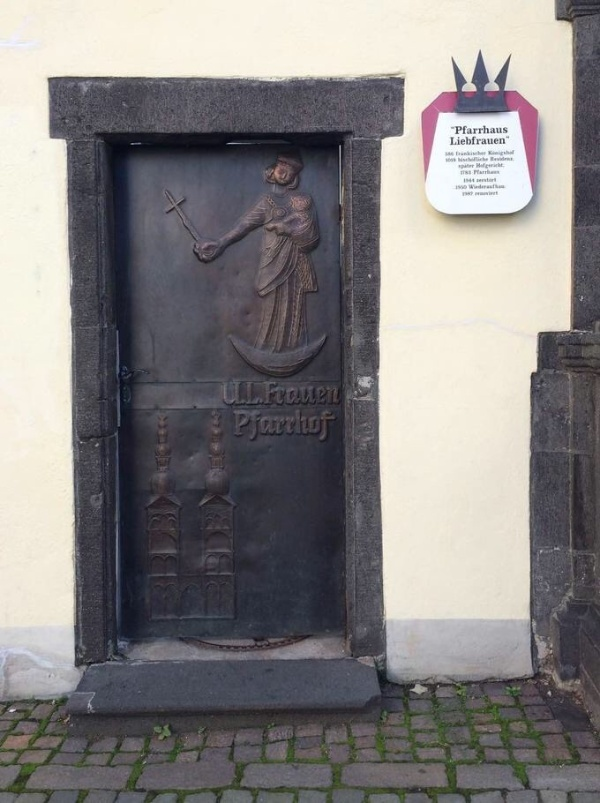text: (241, 407, 256, 456), (257, 407, 272, 456), (273, 407, 288, 456), (289, 407, 304, 456), (305, 407, 320, 456), (321, 407, 336, 456), (225, 378, 240, 406), (241, 378, 256, 406), (257, 378, 272, 406), (273, 378, 288, 406), (289, 378, 304, 406), (305, 378, 320, 406), (321, 378, 336, 406), (233, 407, 240, 456), (465, 125, 480, 136), (481, 125, 496, 136), (465, 136, 480, 146), (481, 136, 496, 146), (450, 136, 464, 146), (497, 125, 508, 136), (455, 125, 464, 136), (221, 378, 224, 406), (337, 378, 340, 406), (497, 136, 505, 146), (465, 151, 480, 156), (497, 151, 512, 156), (481, 163, 496, 168), (481, 170, 496, 175), (481, 178, 496, 183), (481, 184, 496, 189), (497, 157, 512, 161), (465, 157, 480, 161), (468, 184, 480, 189), (481, 192, 496, 196), (465, 178, 475, 183), (337, 407, 338, 456), (456, 185, 464, 191), (465, 164, 474, 169), (457, 151, 464, 156), (489, 151, 496, 156), (473, 170, 480, 175), (497, 184, 504, 189), (465, 192, 473, 196), (481, 151, 487, 156), (458, 164, 464, 169), (497, 163, 503, 168), (481, 157, 488, 161), (449, 158, 456, 162), (465, 171, 472, 175), (449, 152, 454, 157), (490, 157, 496, 161), (458, 157, 464, 161), (476, 163, 480, 168), (476, 178, 480, 183), (475, 192, 480, 196), (460, 171, 464, 175), (445, 152, 448, 157), (445, 158, 448, 162), (465, 185, 467, 191), (513, 151, 515, 156), (497, 170, 499, 175), (462, 192, 464, 196), (513, 157, 514, 161), (497, 192, 498, 196)
